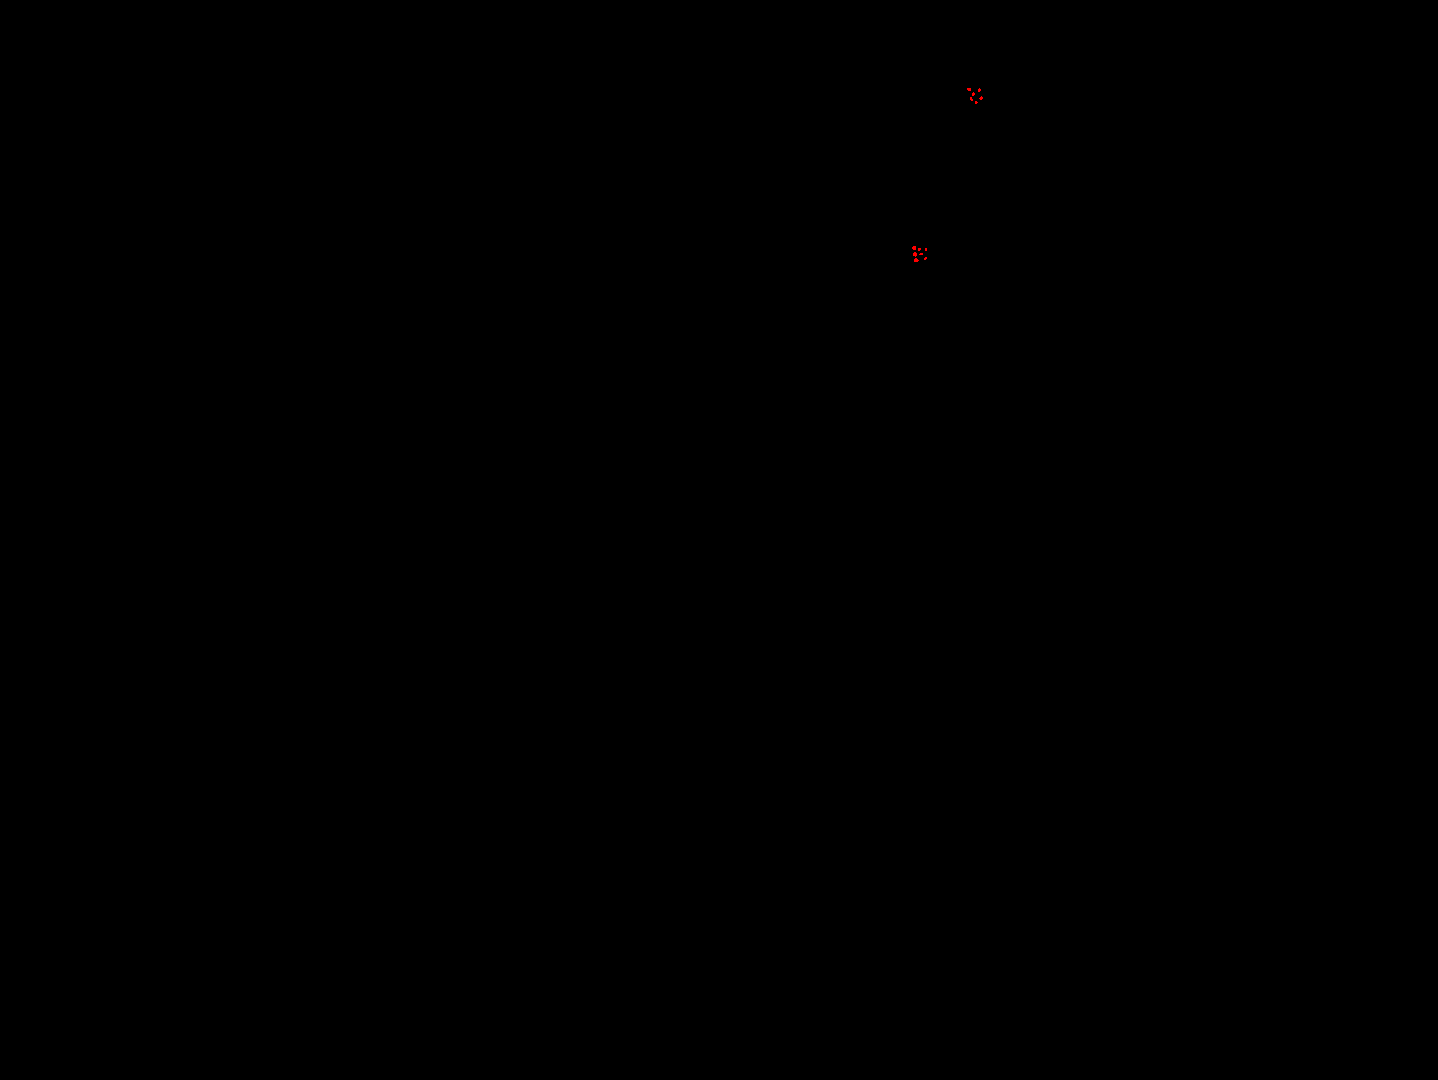Target: (913, 252, 917, 258), (914, 258, 919, 262), (972, 92, 975, 96), (979, 96, 983, 100), (912, 246, 916, 250), (978, 88, 981, 92), (970, 98, 973, 101), (919, 253, 923, 255), (967, 88, 971, 91), (975, 101, 978, 104), (917, 248, 921, 251), (924, 258, 927, 260), (925, 248, 927, 251)
